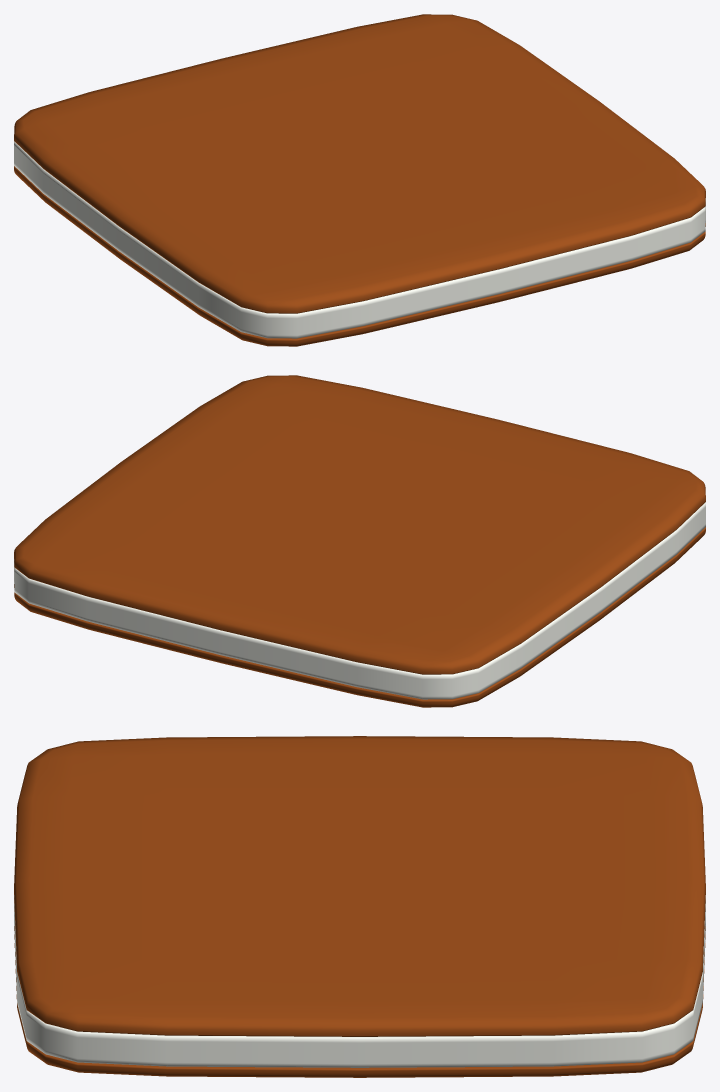
The model's file is MesaCartoon.fbx.
3 renders of one model, top to bottom at view 1: azimuth 30°, elevation 25°; view 2: azimuth 150°, elevation 25°; view 3: azimuth 270°, elevation 25°, orthographic. The views are drawn at different scales.
Parts seen in each view (by area): view 1: MesaCartoon; view 2: MesaCartoon; view 3: MesaCartoon.
Boxes of the visible parts, x1,y1,x2,y2 form: MesaCartoon: (14,14,705,346); MesaCartoon: (14,375,705,707); MesaCartoon: (14,736,705,1077).
Size of the model in its own units: 39.82 by 3.7 by 39.82.
